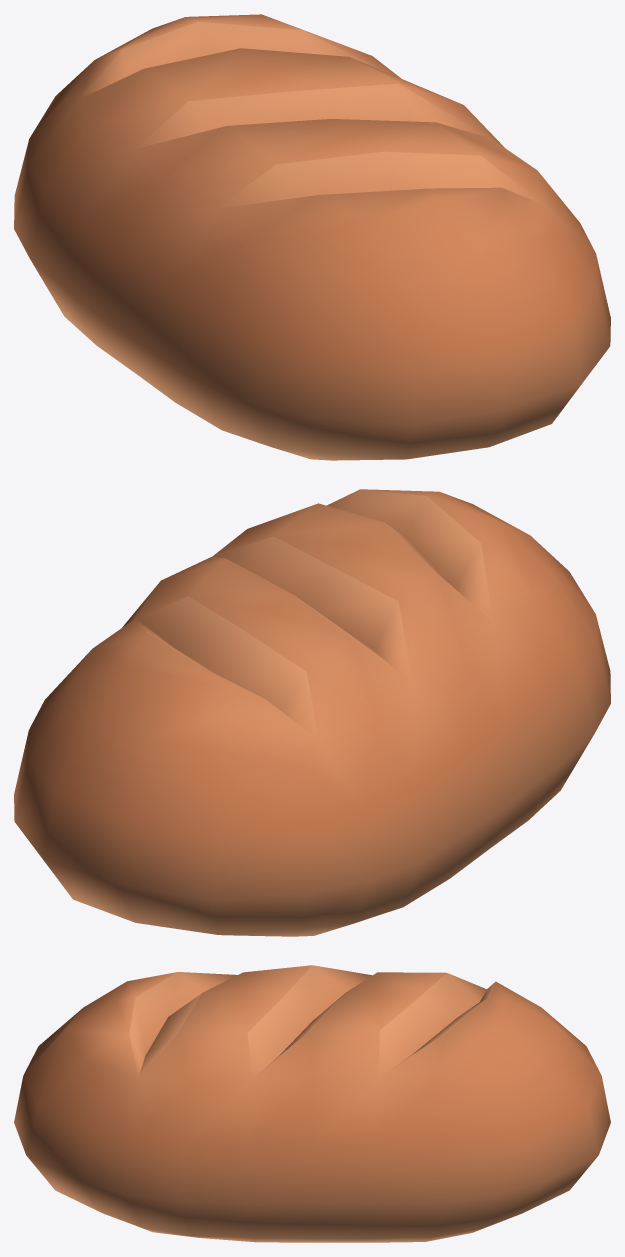
Rendered from bread.glb.
The picture shows the model from 3 angles, top to bottom: view 1: azimuth 30°, elevation 25°; view 2: azimuth 150°, elevation 25°; view 3: azimuth 270°, elevation 25°; orthographic projection. The views are drawn at different scales.
Visible parts, largest first — view 1: bread; view 2: bread; view 3: bread.
Part boxes in pixels (box(x1,y1,x2,y2)): bread: box(14, 14, 610, 460); bread: box(14, 489, 610, 936); bread: box(14, 965, 610, 1242).
Size of the model in its own units: 0.3254 by 0.209 by 0.5292.
1 material, 1 textured.
